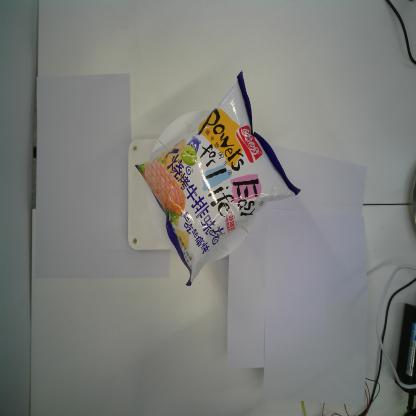Puffed Food: (135, 70, 300, 289)
